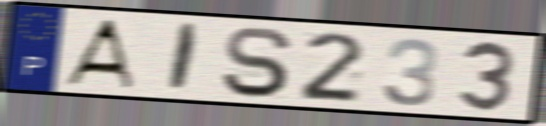2: (294, 31, 368, 104)
3: (455, 39, 519, 114), (381, 36, 441, 107)
A: (59, 18, 138, 91)
I: (164, 21, 203, 94)
S: (218, 25, 296, 100)
